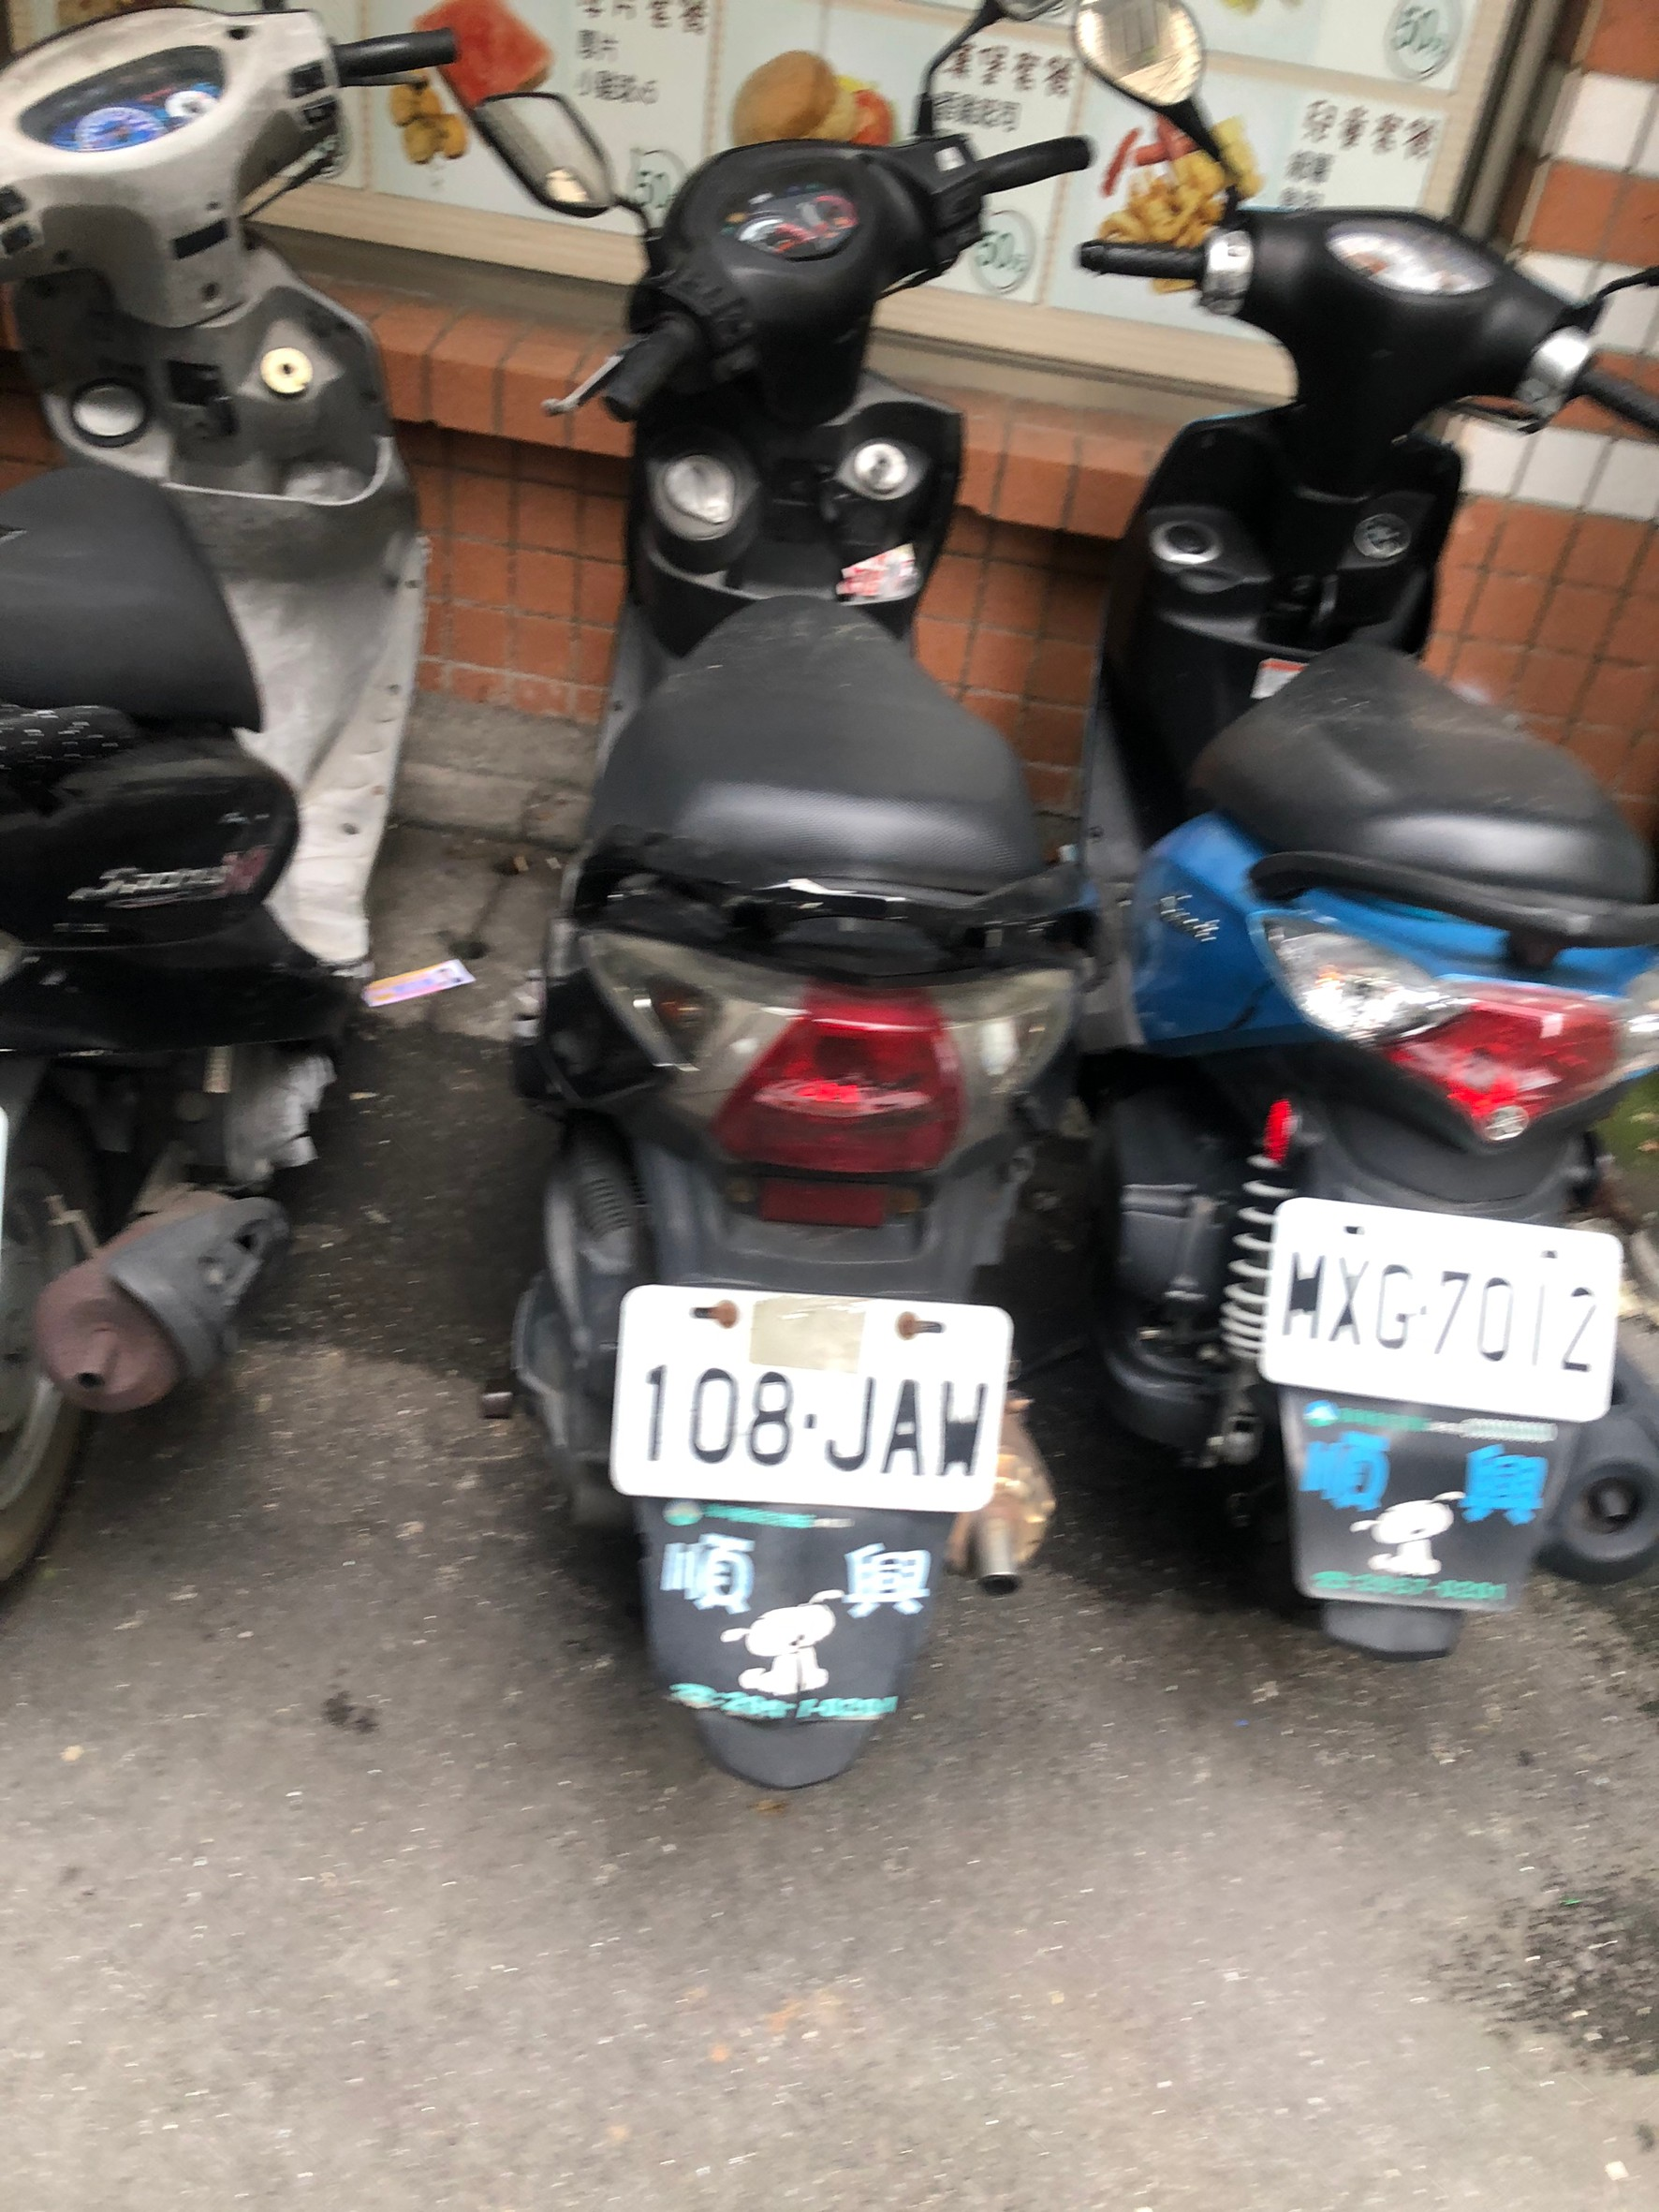LP: (610, 1283, 1004, 1518), (1265, 1187, 1619, 1435)
